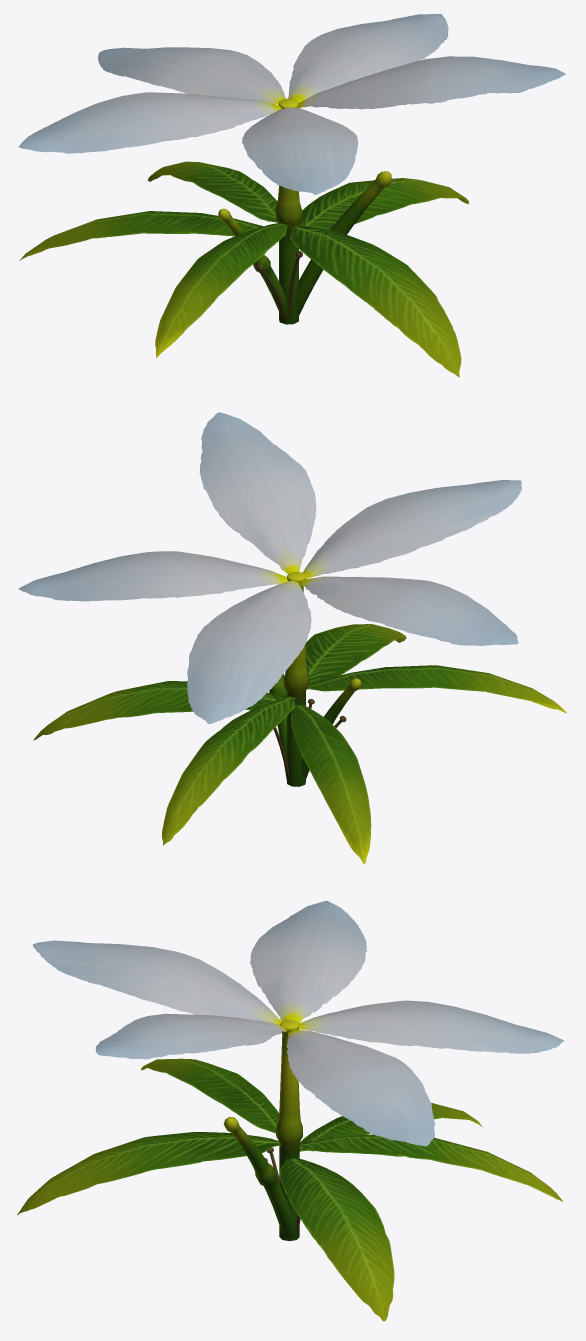
The model's file is jasmine.fbx.
3 renders of one model, top to bottom at view 1: azimuth 30°, elevation 25°; view 2: azimuth 150°, elevation 25°; view 3: azimuth 270°, elevation 25°, orthographic. The views are drawn at different scales.
Visible parts, largest first — view 1: jasmine; view 2: jasmine; view 3: jasmine.
Boxes of the visible parts, <box> form: jasmine: <box>18,14,565,377</box>; jasmine: <box>18,412,566,863</box>; jasmine: <box>17,900,564,1321</box>.
Size of the model in its own units: 10.83 by 5.86 by 11.
Materials: 1 (1 with a texture image).
